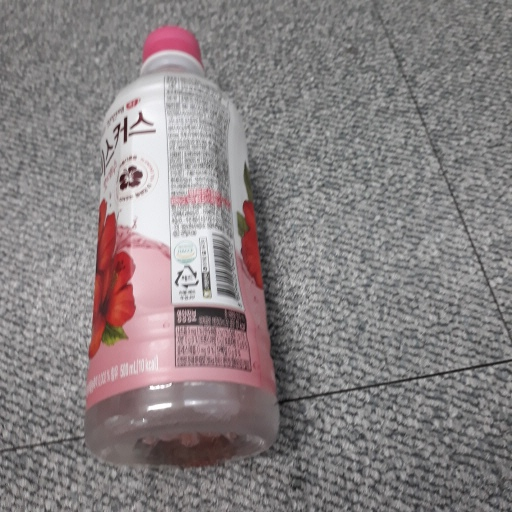Plastic_0: (88, 22, 279, 472)
